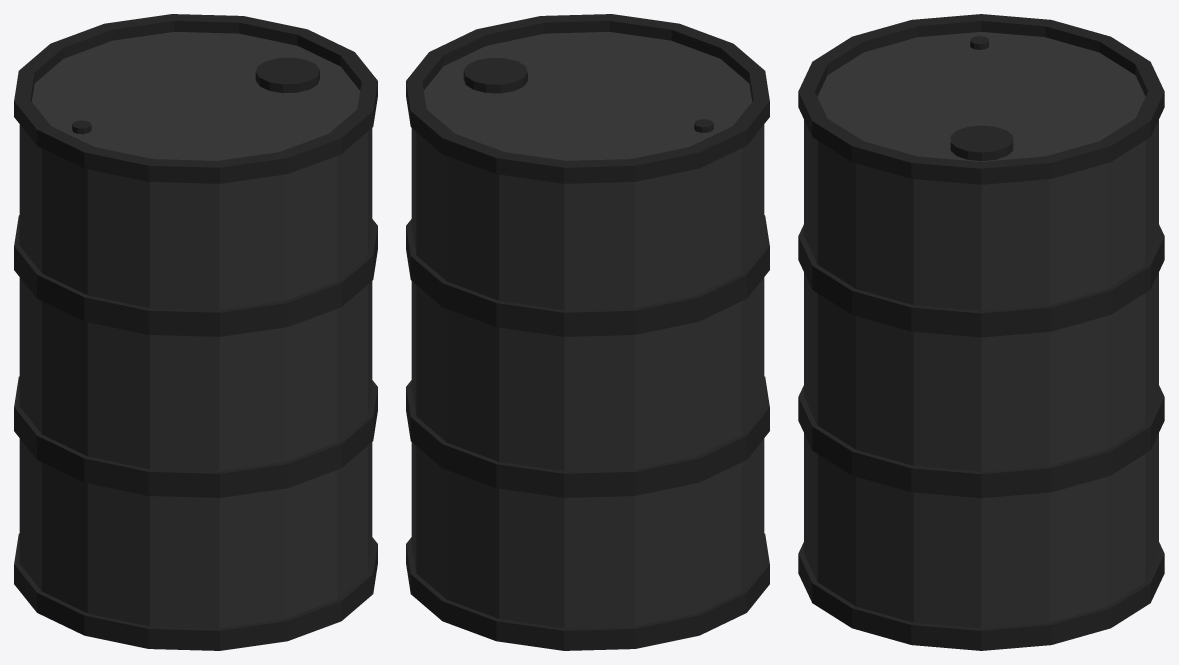
Rendered from Barrel_Oil.fbx.
The picture shows the model from 3 angles, left to right: view 1: azimuth 30°, elevation 25°; view 2: azimuth 150°, elevation 25°; view 3: azimuth 270°, elevation 25°; orthographic projection.
Parts seen in each view (by area): view 1: Cylinder; view 2: Cylinder; view 3: Cylinder.
Part boxes in pixels (<box>): Cylinder: <box>14,14,377,650</box>; Cylinder: <box>406,14,769,650</box>; Cylinder: <box>798,14,1164,650</box>.
Bounding box in the file's own units: 206 × 300 × 206.
